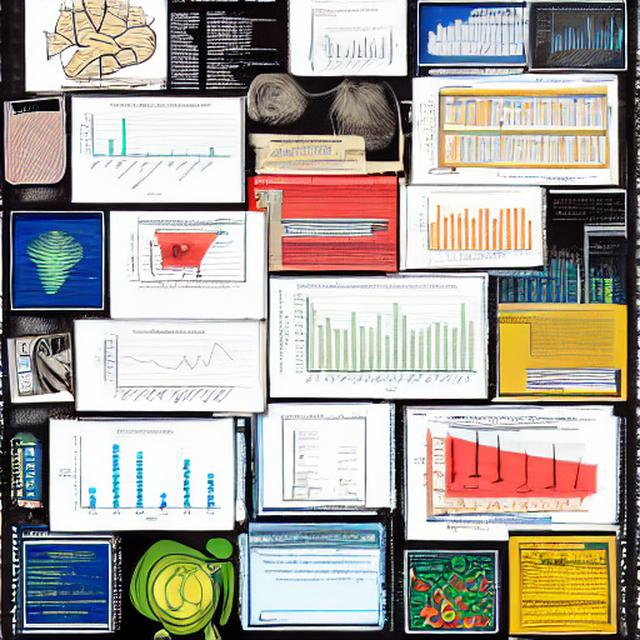Graph: (276, 279, 478, 394), (52, 424, 227, 527), (74, 100, 235, 202), (102, 329, 237, 410), (415, 189, 537, 262), (534, 3, 626, 68), (317, 25, 387, 73)
